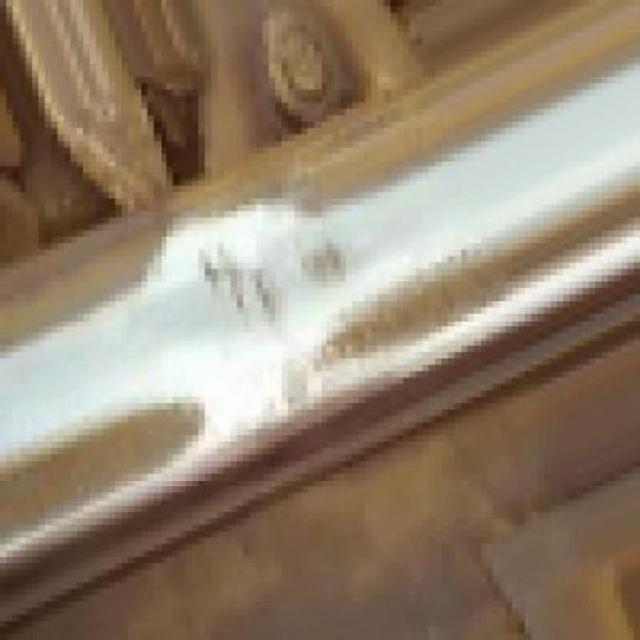defective: (72, 162, 444, 540)
